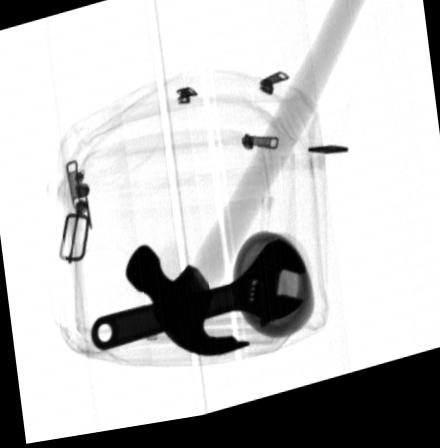Hammer: (120, 0, 372, 364)
Wrench: (86, 250, 306, 356)
